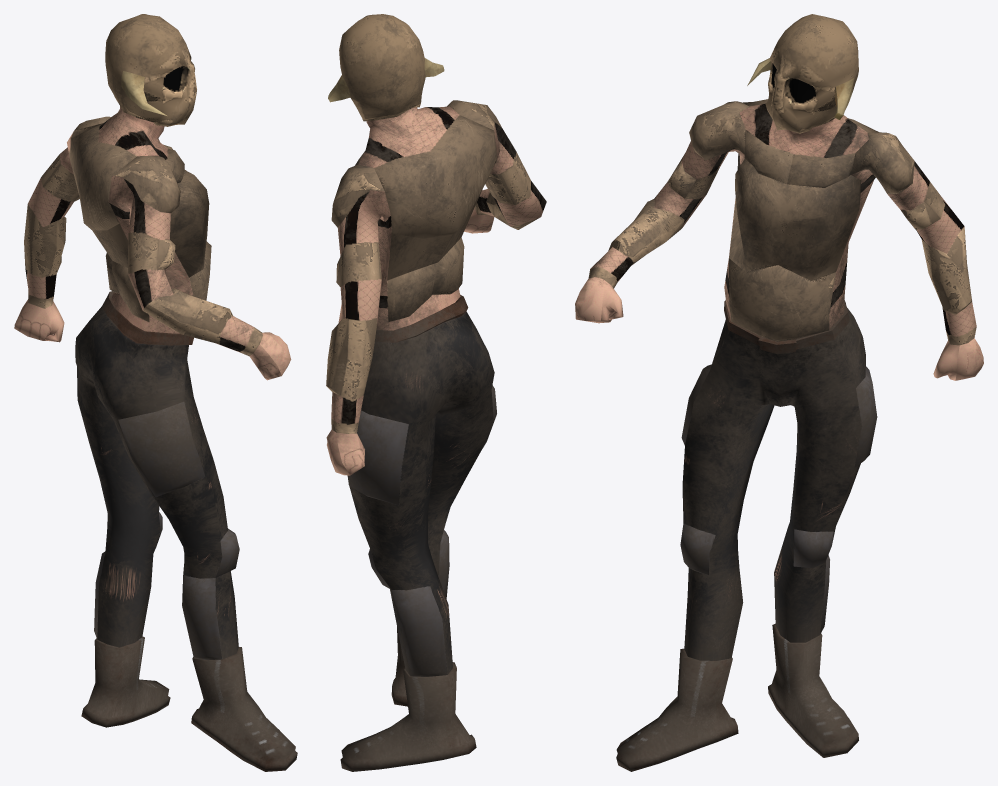
The model's file is Anim_ataque_f3_npc1.0038.obj.
3 views of the same model, side by side, from view 1: azimuth 30°, elevation 25°; view 2: azimuth 150°, elevation 25°; view 3: azimuth 270°, elevation 25° (orthographic). The views are drawn at different scales.
Parts seen in each view (by area): view 1: NPC2; view 2: NPC2; view 3: NPC2.
Part boxes in pixels (x1,y1,x2,y2): NPC2: [14, 14, 297, 771]; NPC2: [326, 14, 546, 771]; NPC2: [575, 14, 983, 771].
Size of the model in its own units: 2.05 by 9.68 by 4.94.
